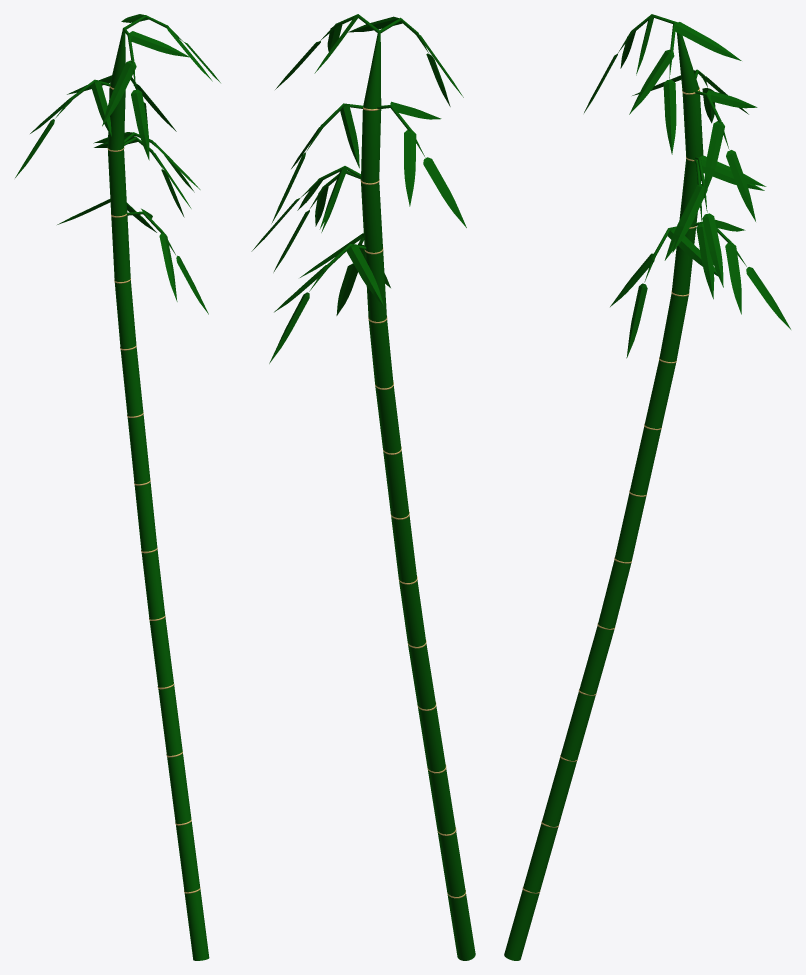
3 views of the same model, side by side, from view 1: azimuth 30°, elevation 25°; view 2: azimuth 150°, elevation 25°; view 3: azimuth 270°, elevation 25° (orthographic). The views are drawn at different scales.
Parts seen in each view (by area): view 1: 竹３; view 2: 竹３; view 3: 竹３.
Part boxes in pixels (x1,y1,x2,y2): 竹３: (15, 14, 220, 960); 竹３: (251, 14, 475, 960); 竹３: (504, 14, 790, 960).
Bounding box in the file's own units: 858 × 3836 × 1058.
